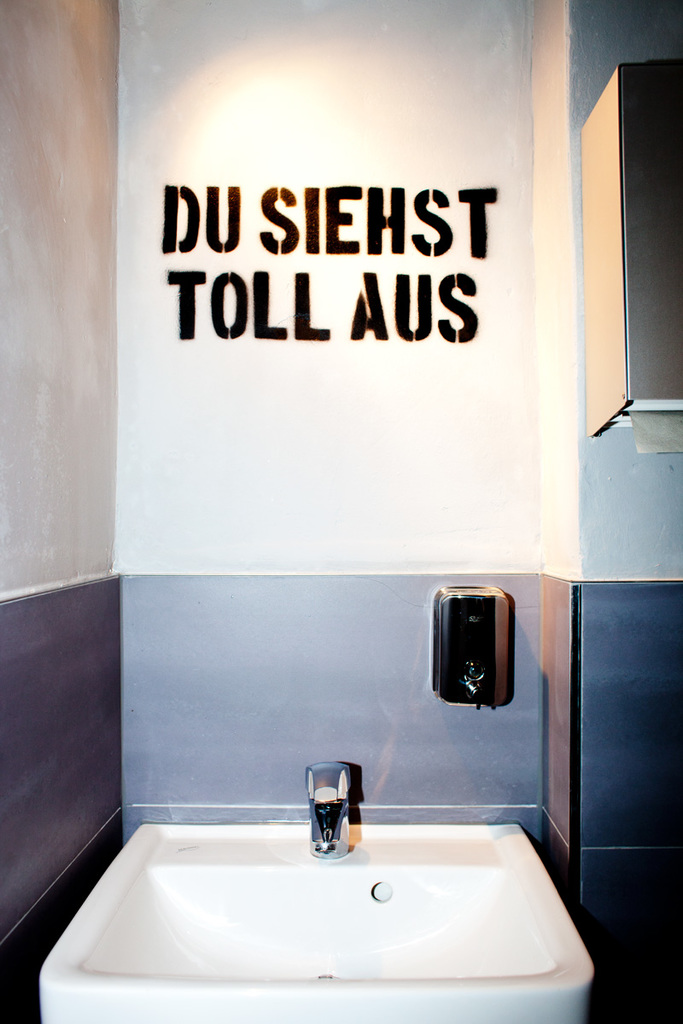tap: (286, 789, 372, 878)
